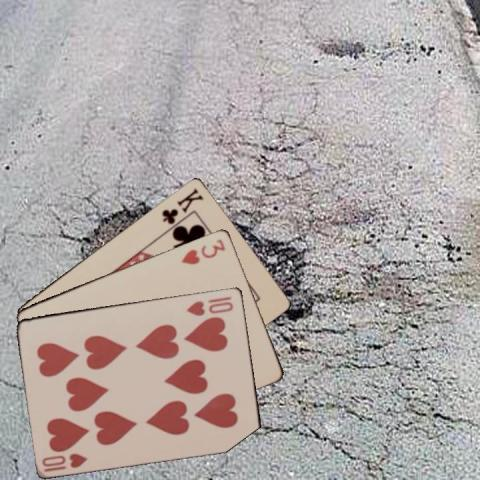10h: (184, 293, 236, 317), (39, 450, 89, 473)
3h: (179, 236, 227, 266)
Kc: (158, 185, 204, 225)
